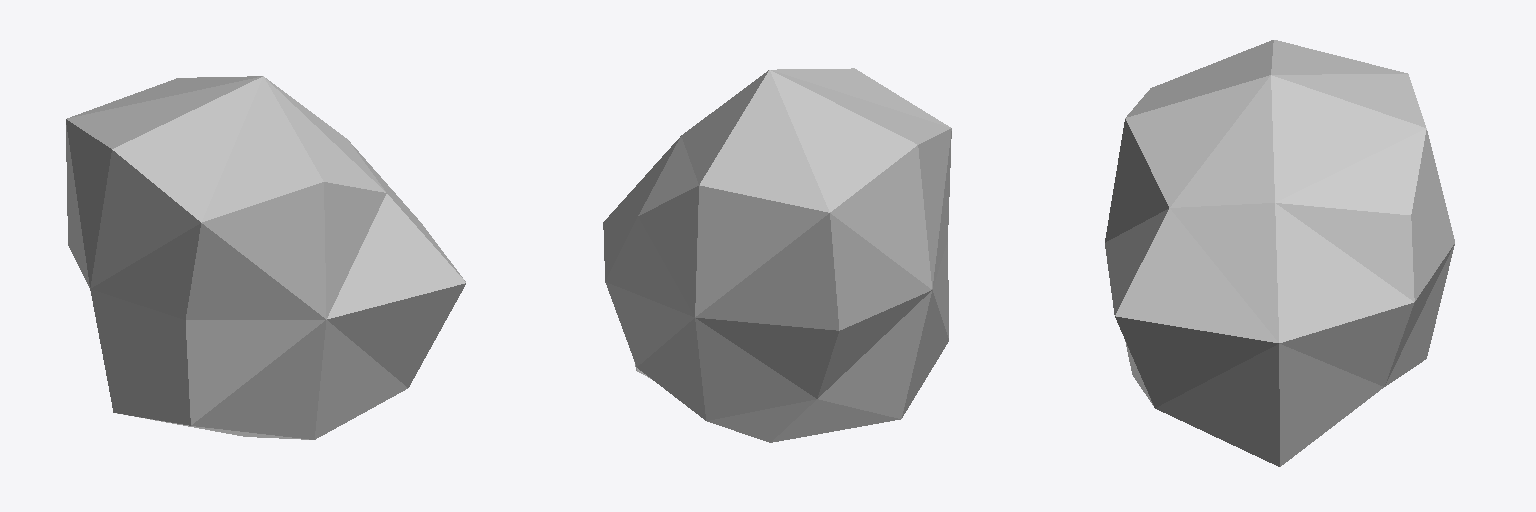
Rendered from meteorite.obj.
3 renders of one model, left to right at view 1: azimuth 30°, elevation 25°; view 2: azimuth 150°, elevation 25°; view 3: azimuth 270°, elevation 25°, orthographic.
Parts seen in each view (by area): view 1: 立方体; view 2: 立方体; view 3: 立方体.
Part boxes in pixels (left/top/right/bottom): 立方体: left=66, top=76, right=465, bottom=439; 立方体: left=603, top=68, right=951, bottom=442; 立方体: left=1105, top=40, right=1454, bottom=466.
Size of the model in its own units: 1.18 by 1.25 by 1.09.